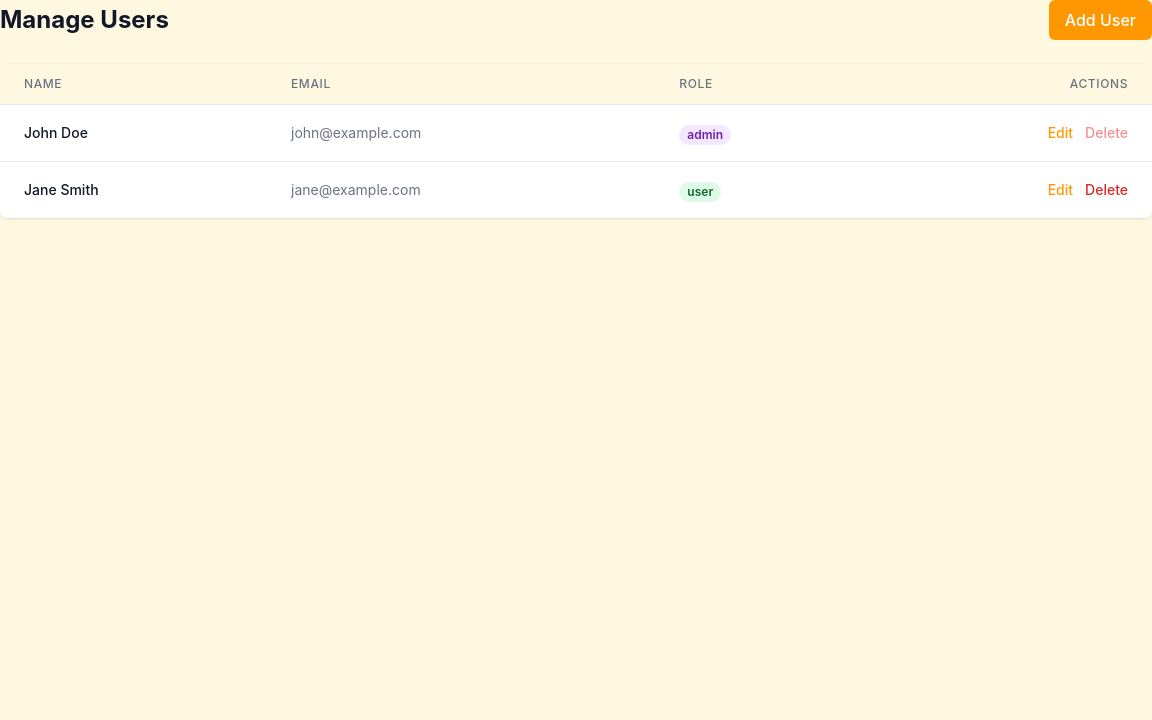
ManageUsers Component › opens add user modal
The image size is (1152, 720).
Click the button
Click the button "Add User": (1100, 20) [1049, 0, 1151, 40]
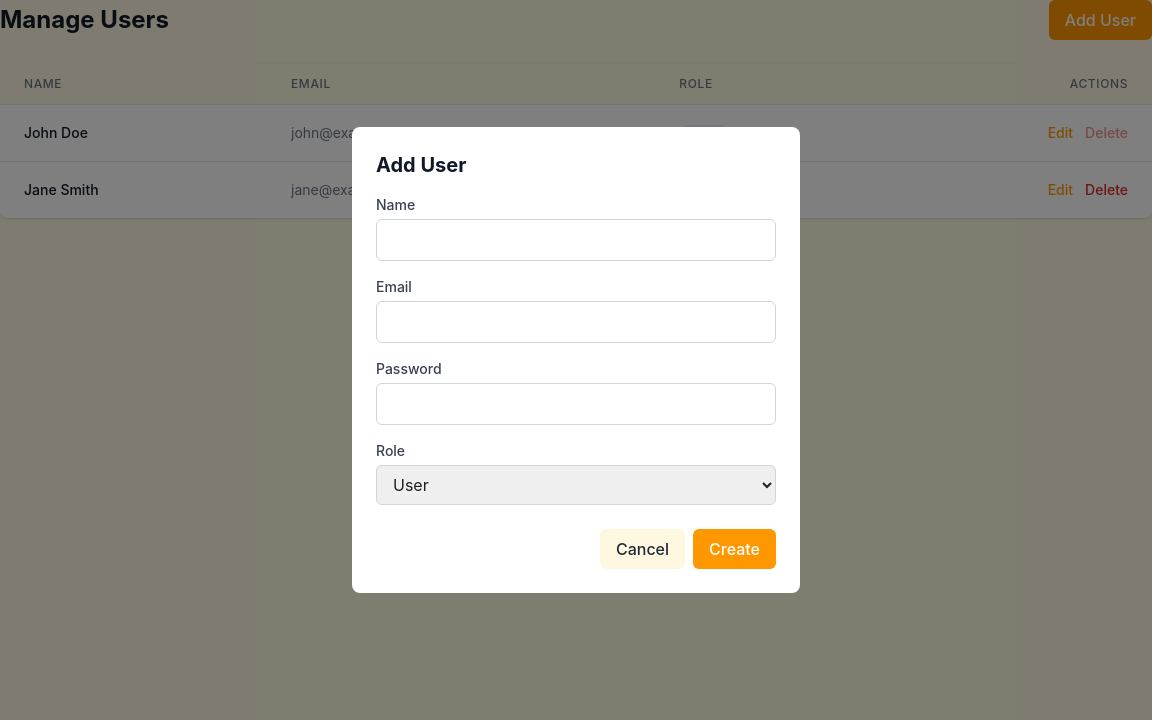
Result: the button "Create" is shown at [693, 529, 776, 569]
Result: the field labelled "Name" is shown at [376, 219, 776, 261]
Result: the field labelled "Email" is shown at [376, 301, 776, 343]
